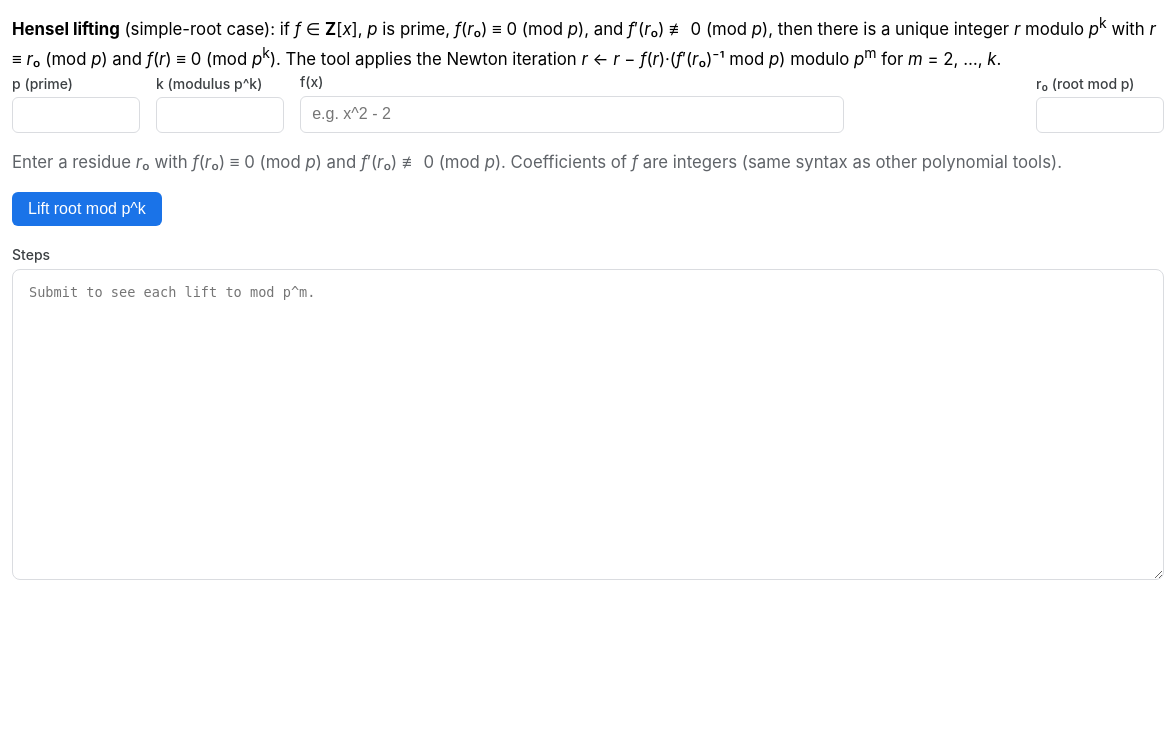
HenselLiftPage › computes lift for x^2 - 2 mod 7^2
In the number field named "p prime": [76, 115] box [12,97,140,133], type "7"
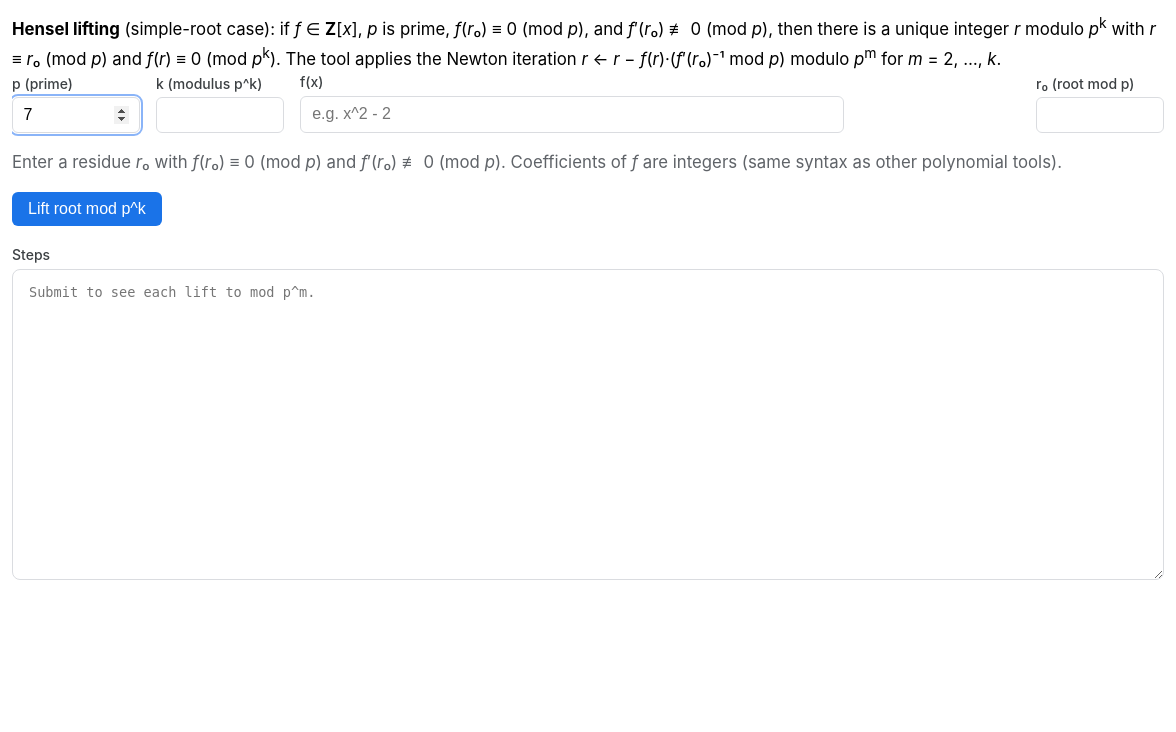
In the number field named "k exponent": [220, 115] box [156,97,284,133], type "2"
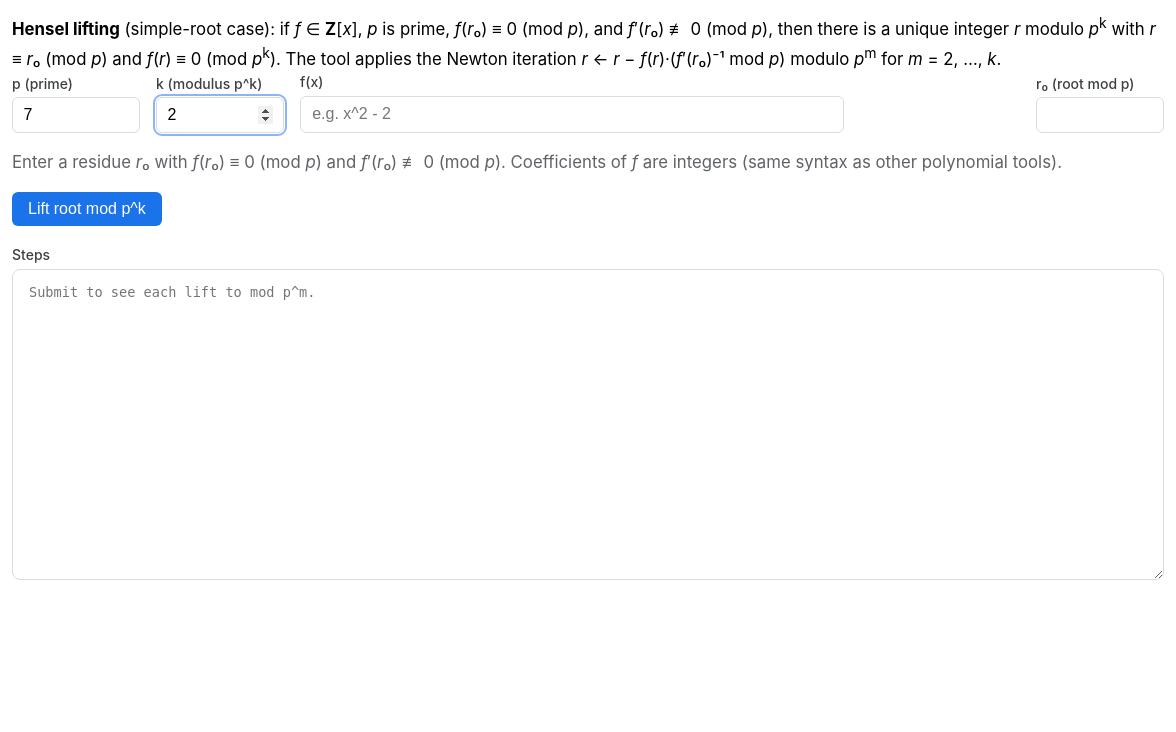
In the field named "f(x) polynomial": [572, 114] box [300,96,844,133], type "x^2 - 2"
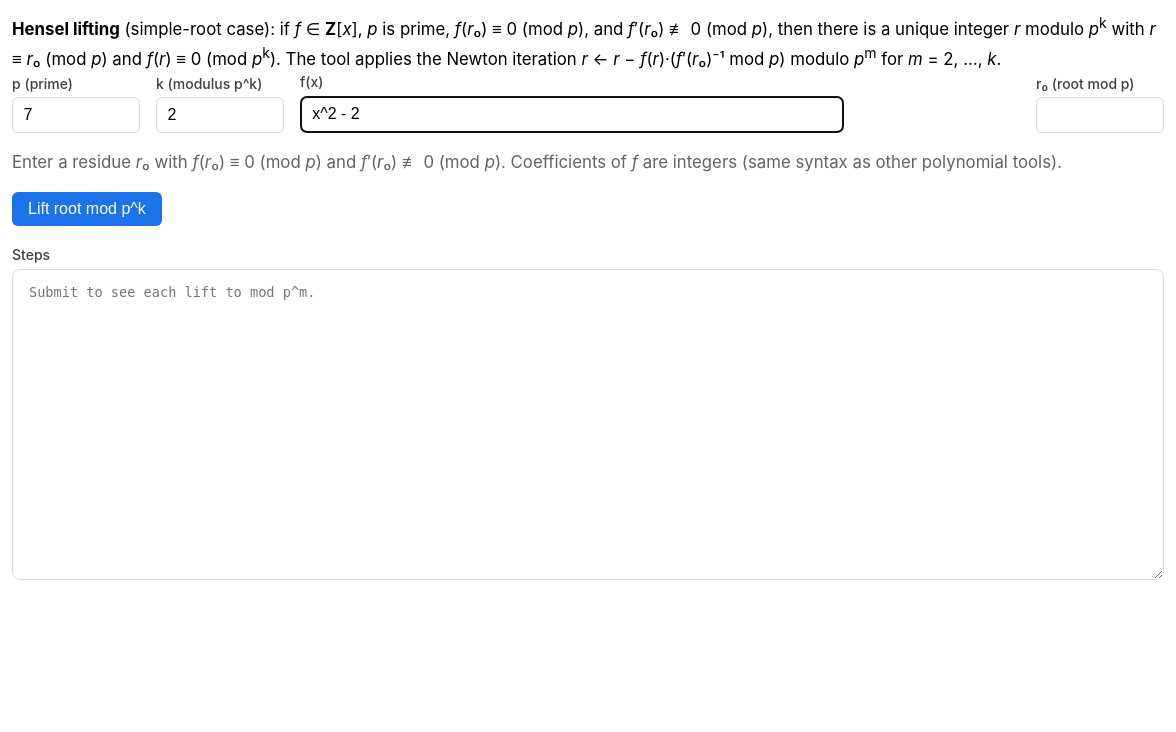
In the field named "r0 root modulo p": [1100, 115] box [1036,97,1164,133], type "3"
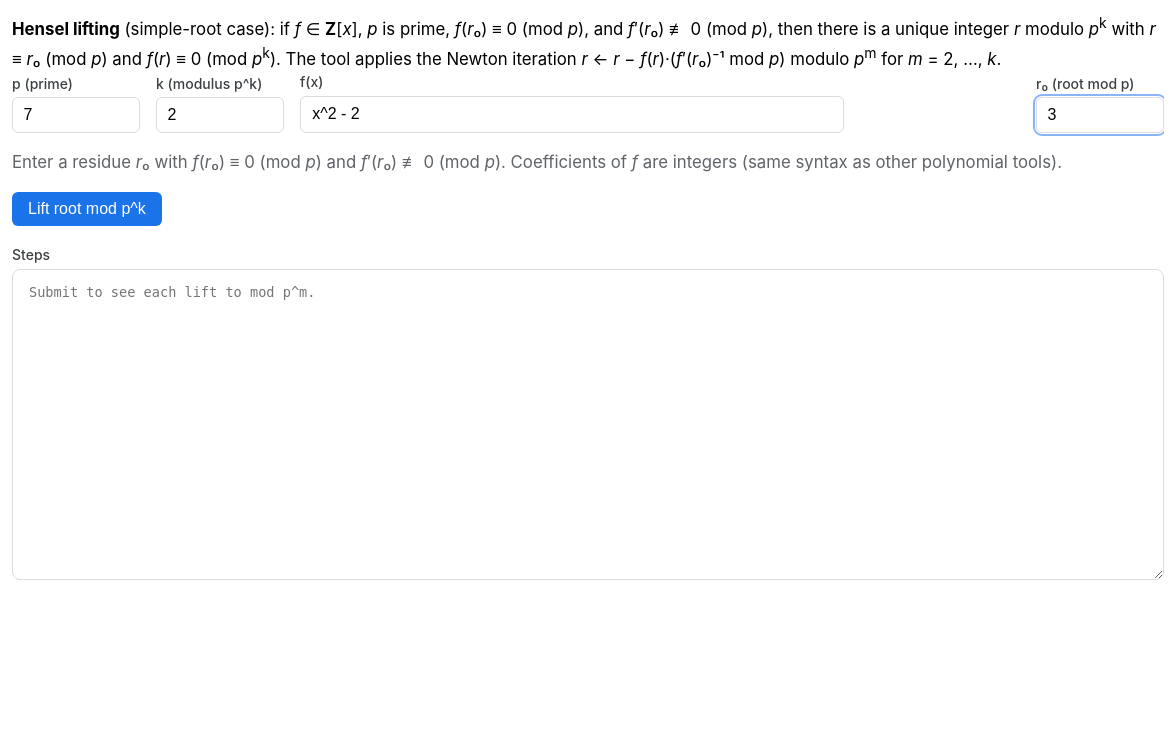
Click the button "Lift root mod p^k": [87, 209] box [12,192,162,226]
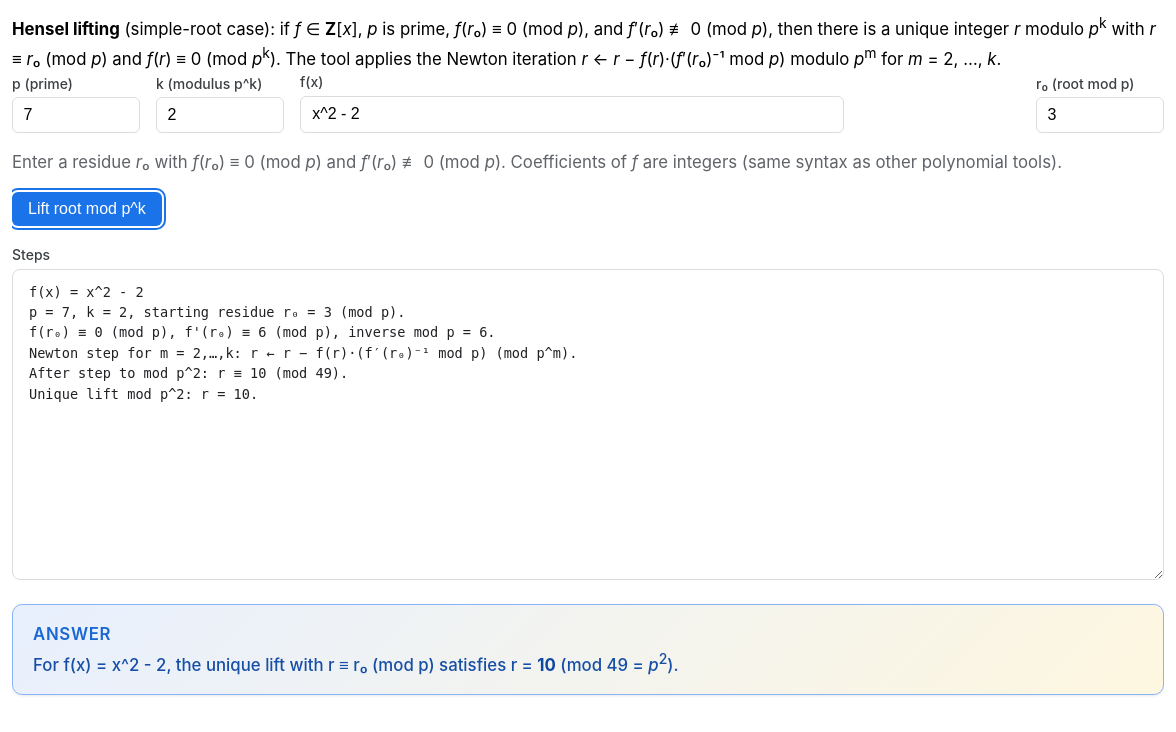
Now the text with test id "hensel-r" reads "10", box [537,654,556,674]
Now the text with test id "hensel-modulus" reads "49", box [606,654,628,674]
